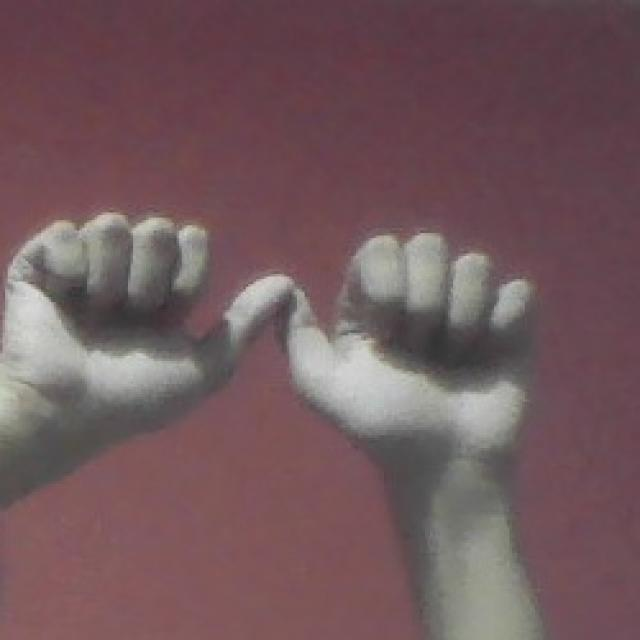Alphabet-A: (17, 206, 542, 457)
